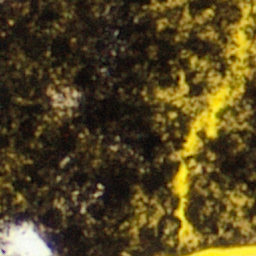cement_matrix: (0, 0, 242, 255), (185, 55, 255, 245), (54, 92, 75, 106), (248, 14, 255, 43), (231, 195, 244, 207), (240, 222, 249, 230)
cracks: (160, 0, 255, 255), (232, 196, 243, 206), (241, 223, 248, 229)
gravel_crushed_stones: (0, 222, 53, 255), (55, 93, 74, 105)
